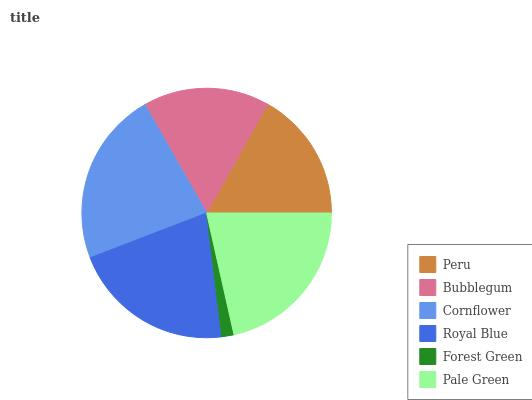legend: (407, 248, 532, 400)
sector: (82, 103, 205, 259), (91, 212, 222, 339), (206, 213, 336, 333), (146, 86, 268, 213), (204, 103, 333, 214), (204, 213, 233, 338)
